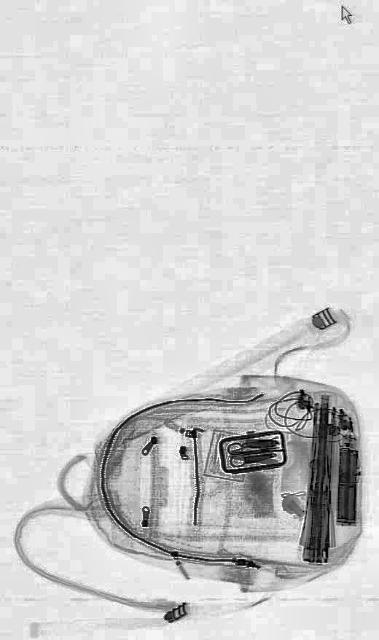Scissors: (228, 437, 266, 468)
